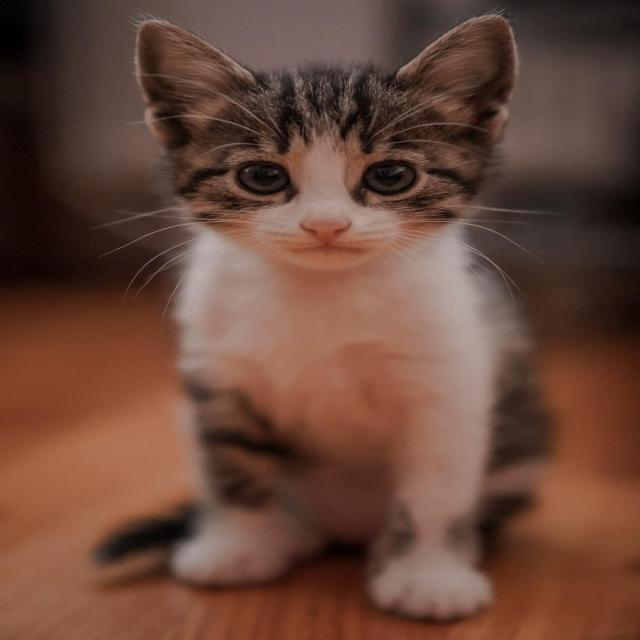Cat: (119, 8, 537, 278)
